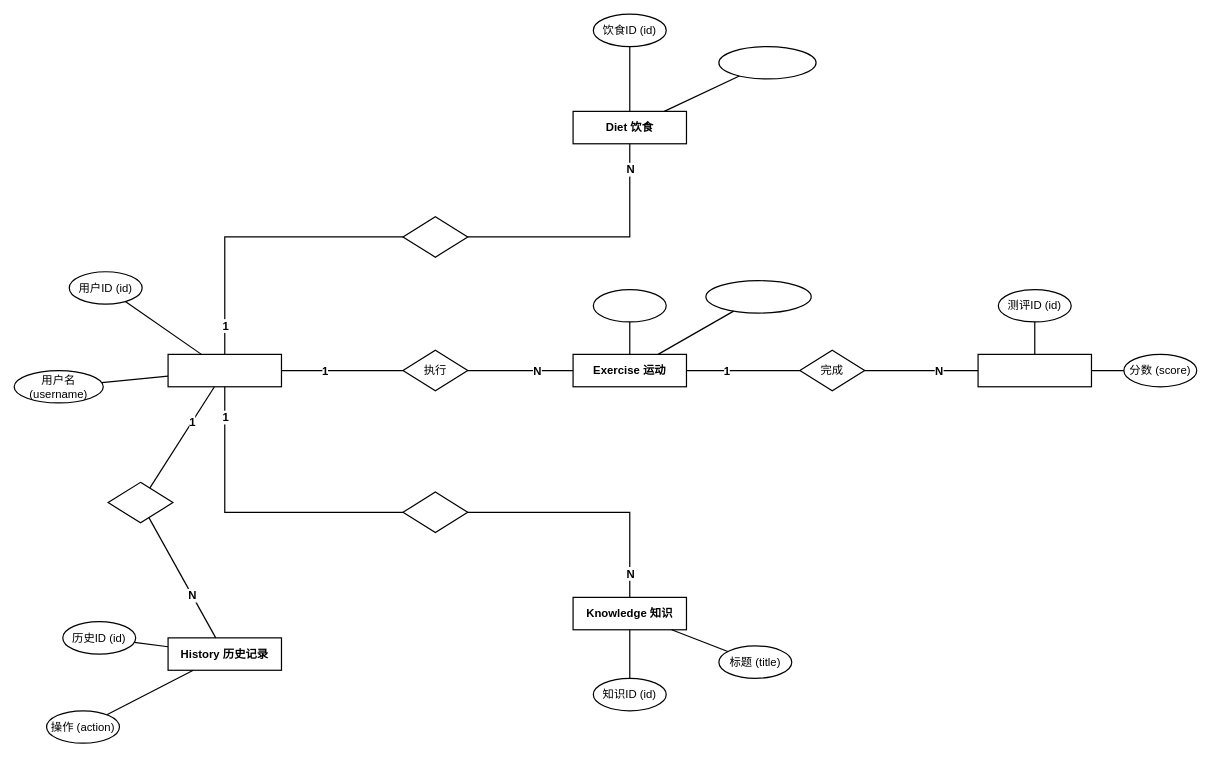
This 1212x758 diagram has some shape labels left out. The centre of each missing label's shape, as x and y in pixels:
"Assessment 测评" goes at pixel 1034 370.
"User 用户" goes at pixel 224 370.
"产生" goes at pixel 140 502.
"记录" goes at pixel 435 236.
"运动ID (id)" goes at pixel 629 305.
"运动类型 (exercise_type)" goes at pixel 758 296.
"阅读" goes at pixel 435 512.
"饮食类型 (meal_type)" goes at pixel 767 62.
